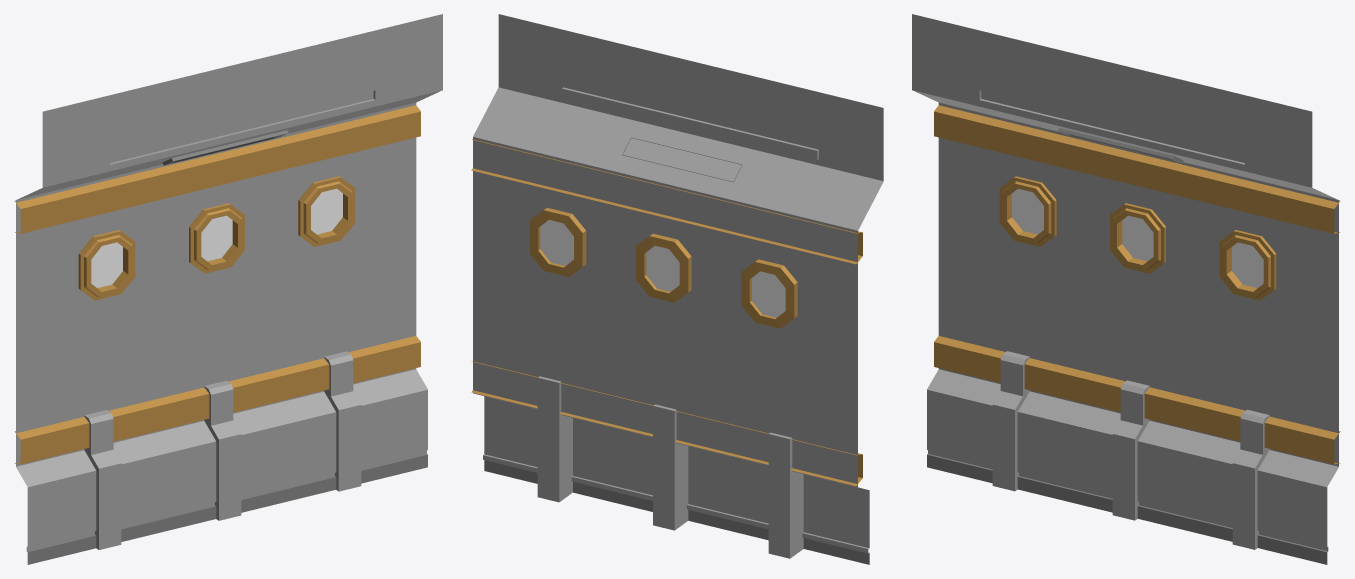
File: SmallWindows_Wall_SideB_GD.glb
The picture shows the model from 3 angles, left to right: view 1: azimuth 30°, elevation 25°; view 2: azimuth 150°, elevation 25°; view 3: azimuth 330°, elevation 25°; orthographic projection. The views are drawn at different scales.
Visible parts, largest first — view 1: SmallWindows_Wall_SideB; view 2: SmallWindows_Wall_SideB; view 3: SmallWindows_Wall_SideB.
Part boxes in pixels (x1=…): SmallWindows_Wall_SideB: x1=14, y1=14, x2=442, y2=564; SmallWindows_Wall_SideB: x1=471, y1=14, x2=883, y2=564; SmallWindows_Wall_SideB: x1=912, y1=14, x2=1340, y2=564.
Size of the model in its own units: 30 by 33.23 by 3.95.
